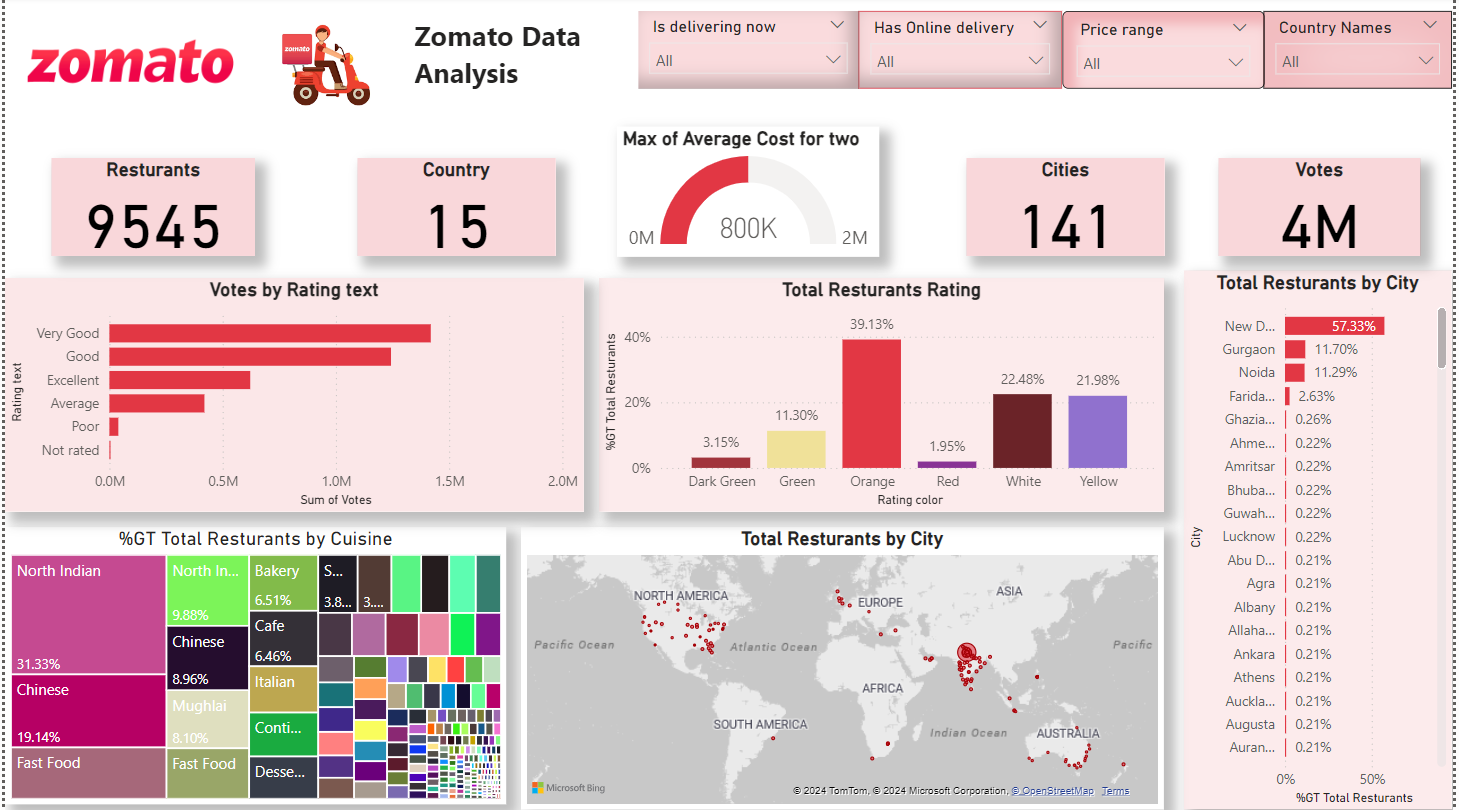

What the dashboard file says about the page in this screenshot:
{"tool":"powerbi","page":{"name":"Page 1","canvas":[1280,720],"ordinal":0},"visuals":[{"type":"slicer","fields":{"Values":["zomato.Country Names"]},"box":[1113.3,13.3,166.7,68.3],"z":0},{"type":"slicer","fields":{"Values":["zomato.Has Online delivery"]},"box":[755,13.3,180,68.3],"z":1000},{"type":"slicer","fields":{"Values":["zomato.Is delivering now"]},"box":[560,13.3,195,68.3],"z":2000},{"type":"slicer","fields":{"Values":["zomato.Price range"]},"box":[935,13.3,178.3,68.3],"z":3000},{"type":"card","title":"Resturants","fields":{"Values":["zomato.Total Resturants"]},"box":[41.7,143.3,180,86.7],"z":4000},{"type":"card","title":"Country","fields":{"Values":["zomato.Total country"]},"box":[311.7,143.3,175,86.7],"z":5000},{"type":"card","title":" Cities","fields":{"Values":["zomato.total cities"]},"box":[850,143.3,175,86.7],"z":6000},{"type":"card","title":"Votes","fields":{"Values":["Sum(zomato.Votes)"]},"box":[1073.3,143.3,178.3,86.7],"z":7000},{"type":"clusteredBarChart","title":" Total Resturants by City","fields":{"Category":["zomato.City"],"Y":["zomato.Total Resturants"]},"box":[1043.3,243.3,236.7,476.7],"z":8000},{"type":"treemap","fields":{"Group":["zomato.Cuisine"],"Values":["zomato.Total Resturants"]},"box":[0,470,443.3,245],"z":9000},{"type":"map","fields":{"Category":["zomato.City"],"Size":["zomato.Total Resturants"]},"box":[456.7,470,568.3,250],"z":10000},{"type":"columnChart","title":" Total Resturants  Rating ","fields":{"Category":["zomato.Rating color","zomato.Rating text"],"Y":["zomato.Total Resturants"]},"box":[525,250,500,206.7],"z":11000},{"type":"clusteredBarChart","title":" Votes by Rating text","fields":{"Category":["zomato.Rating text"],"Y":["Sum(zomato.Votes)"]},"box":[0,250,511.7,206.7],"z":12000},{"type":"gauge","fields":{"Y":["Max(zomato.Average Cost for two)"]},"box":[541.7,115,231.7,115],"z":12001},{"type":"image","box":[0,0,221.7,115],"z":12002},{"type":"image","box":[203.3,13.3,153.3,93.3],"z":12003},{"type":"textbox","box":[356.7,13.3,203.3,93.3],"z":12004}]}

Visuals, with their boxes in screenshot pixels (x1, y1, x2, y2), scaled from the page's 1280x720 canvas onto the 1459x810 screenshot:
slicer - zomato.Country Names: x1=1269, y1=15, x2=1458, y2=92
slicer - zomato.Has Online delivery: x1=861, y1=15, x2=1066, y2=92
slicer - zomato.Is delivering now: x1=638, y1=15, x2=861, y2=92
slicer - zomato.Price range: x1=1066, y1=15, x2=1269, y2=92
"Resturants" card: x1=48, y1=161, x2=253, y2=259
"Country" card: x1=355, y1=161, x2=555, y2=259
" Cities" card: x1=969, y1=161, x2=1168, y2=259
"Votes" card: x1=1223, y1=161, x2=1427, y2=259
" Total Resturants by City" clusteredBarChart: x1=1189, y1=274, x2=1458, y2=809
treemap - zomato.Cuisine x zomato.Total Resturants: x1=0, y1=529, x2=505, y2=804
map - zomato.City x zomato.Total Resturants: x1=521, y1=529, x2=1168, y2=809
" Total Resturants  Rating " columnChart: x1=598, y1=281, x2=1168, y2=514
" Votes by Rating text" clusteredBarChart: x1=0, y1=281, x2=583, y2=514
gauge - Max(zomato.Average Cost for two): x1=617, y1=129, x2=882, y2=259
image: x1=0, y1=0, x2=253, y2=129
image: x1=232, y1=15, x2=406, y2=120
textbox: x1=407, y1=15, x2=638, y2=120
